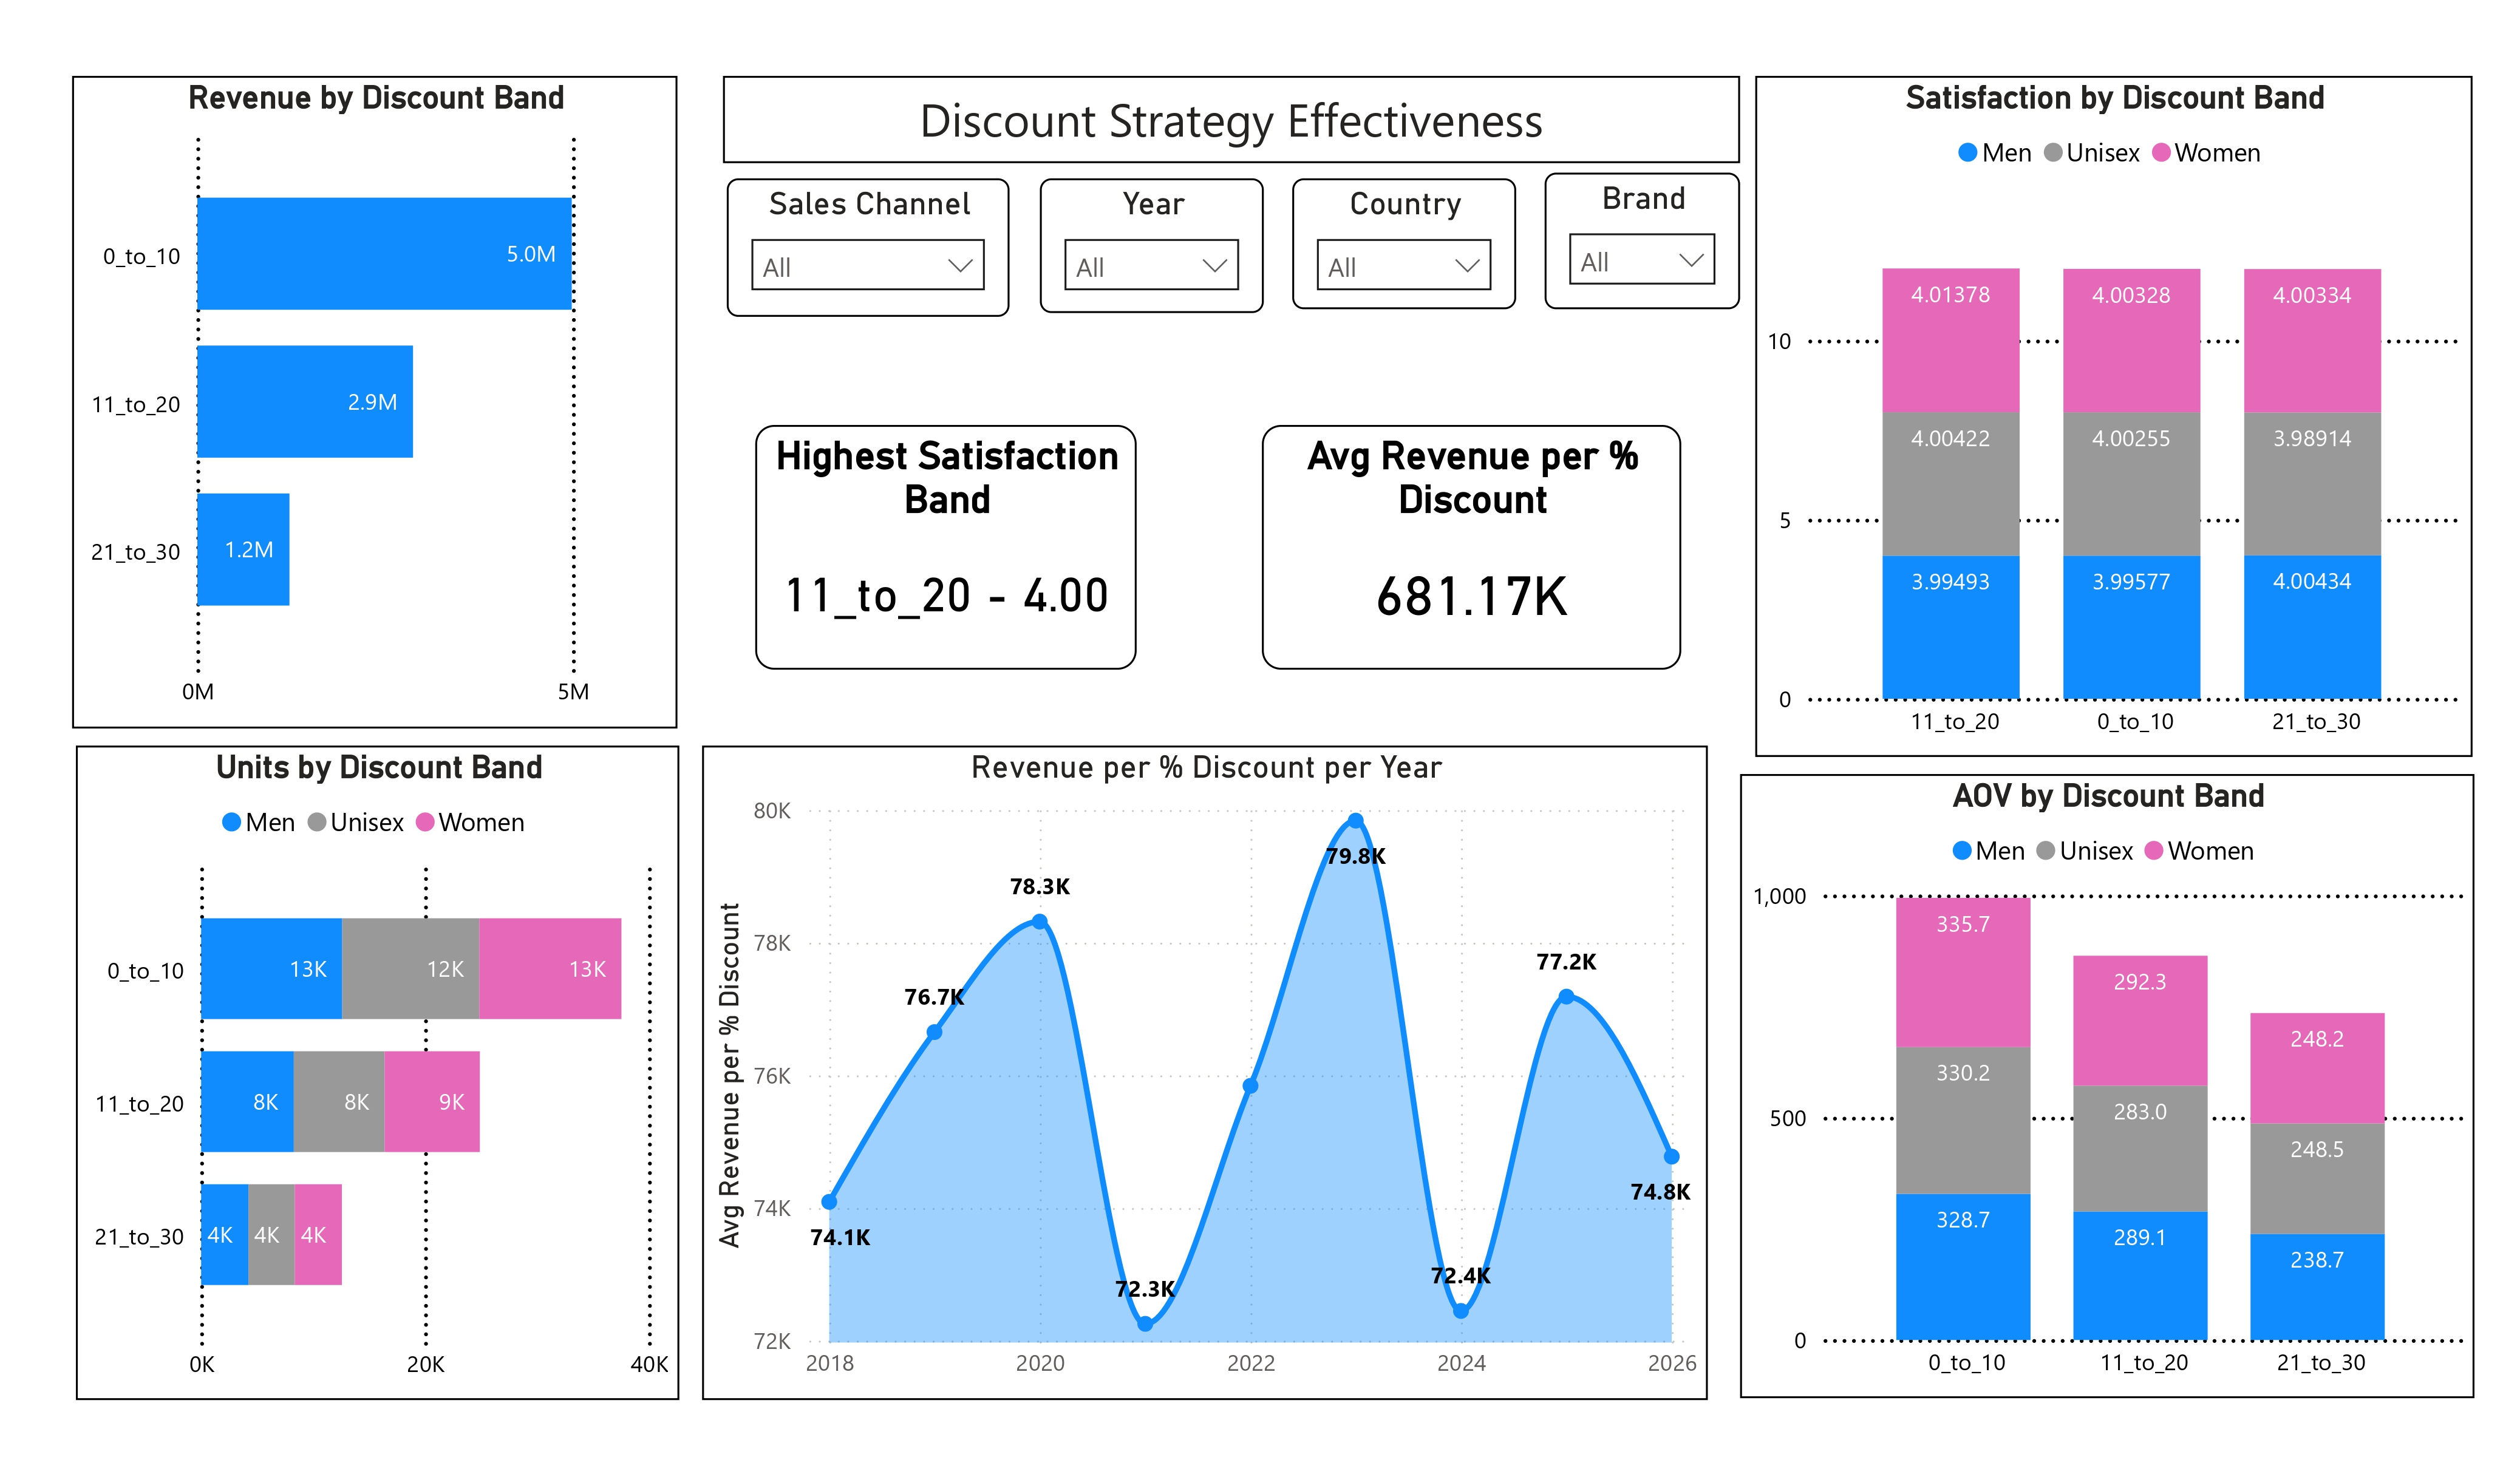

The page's visual inventory and layout, read from the dashboard file:
{"tool":"powerbi","page":{"name":"Discount Strategy","canvas":[1280,720],"ordinal":2},"visuals":[{"type":"barChart","title":"Revenue by Discount Band","fields":{"Category":["cleaned_data.discount_band"],"Y":["Table2.total_revenue"]},"box":[14.2,15.8,319.1,344.4],"z":0},{"type":"barChart","title":"Units by Discount Band","fields":{"Category":["cleaned_data.discount_band"],"Y":["Table2.total_units_sold"],"Series":["cleaned_data.gender"]},"box":[16.4,368.6,317.8,345.7],"z":1000},{"type":"columnChart","title":"Satisfaction by Discount Band","fields":{"Y":["Table2.average customer satsifaction"],"Category":["cleaned_data.discount_band"],"Series":["cleaned_data.gender"]},"box":[901,16.4,378.4,358.8],"z":2000},{"type":"columnChart","title":"AOV by Discount Band","fields":{"Category":["cleaned_data.discount_band"],"Y":["Table2.AOV"],"Series":["cleaned_data.gender"]},"box":[892.9,384.3,387.1,328.6],"z":3000},{"type":"card","title":"Avg Revenue per % Discount","fields":{"Values":["Table 3.Avg Revenue per % Discount"]},"box":[640.6,199.9,221.2,129.4],"z":4000},{"type":"card","title":"Highest Satisfaction Band","fields":{"Values":["Table 3.Highest Satisfaction Band"]},"box":[373.5,199.9,201.5,129.4],"z":5000},{"type":"textbox","box":[357.1,16.4,535.7,45.9],"z":6000},{"type":"lineChart","title":"Revenue per % Discount per Year","fields":{"Y":["Table 3.Avg Revenue per % Discount"],"Category":["cleaned_data.year_month.Variation.Date Hierarchy.Year"]},"box":[345.7,368.6,530.8,345.7],"z":7000},{"type":"slicer","title":"Country","fields":{"Values":["cleaned_data.country"]},"box":[656.9,70.4,118,68.8],"z":8000},{"type":"slicer","title":"Sales Channel","fields":{"Values":["cleaned_data.sales_channel"]},"box":[358.8,70.4,149.1,72.1],"z":9000},{"type":"slicer","title":"Brand","fields":{"Values":["brand_summary.Strategic_Position"]},"box":[789.6,67.2,103.2,72.1],"z":10000},{"type":"slicer","title":"Year","fields":{"Values":["cleaned_data.year"]},"box":[524.2,70.4,118,70.4],"z":11000}]}

Visuals, with their boxes in screenshot pixels (x1, y1, x2, y2):
"Revenue by Discount Band" barChart: bbox=(86, 75, 683, 721)
"Units by Discount Band" barChart: bbox=(90, 736, 685, 1384)
"Satisfaction by Discount Band" columnChart: bbox=(1746, 76, 2455, 749)
"AOV by Discount Band" columnChart: bbox=(1731, 766, 2456, 1381)
"Avg Revenue per % Discount" card: bbox=(1259, 420, 1673, 662)
"Highest Satisfaction Band" card: bbox=(758, 420, 1136, 662)
textbox: bbox=(728, 76, 1731, 163)
"Revenue per % Discount per Year" lineChart: bbox=(706, 736, 1700, 1384)
"Country" slicer: bbox=(1289, 178, 1510, 307)
"Sales Channel" slicer: bbox=(731, 178, 1010, 313)
"Brand" slicer: bbox=(1538, 172, 1731, 307)
"Year" slicer: bbox=(1041, 178, 1262, 310)
